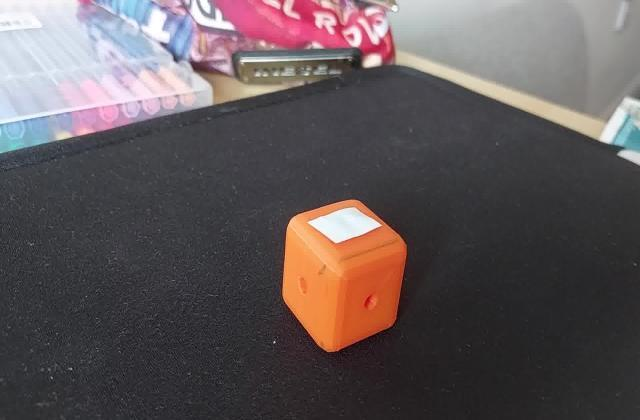cube: (282, 194, 412, 354)
white: (310, 213, 374, 248)
